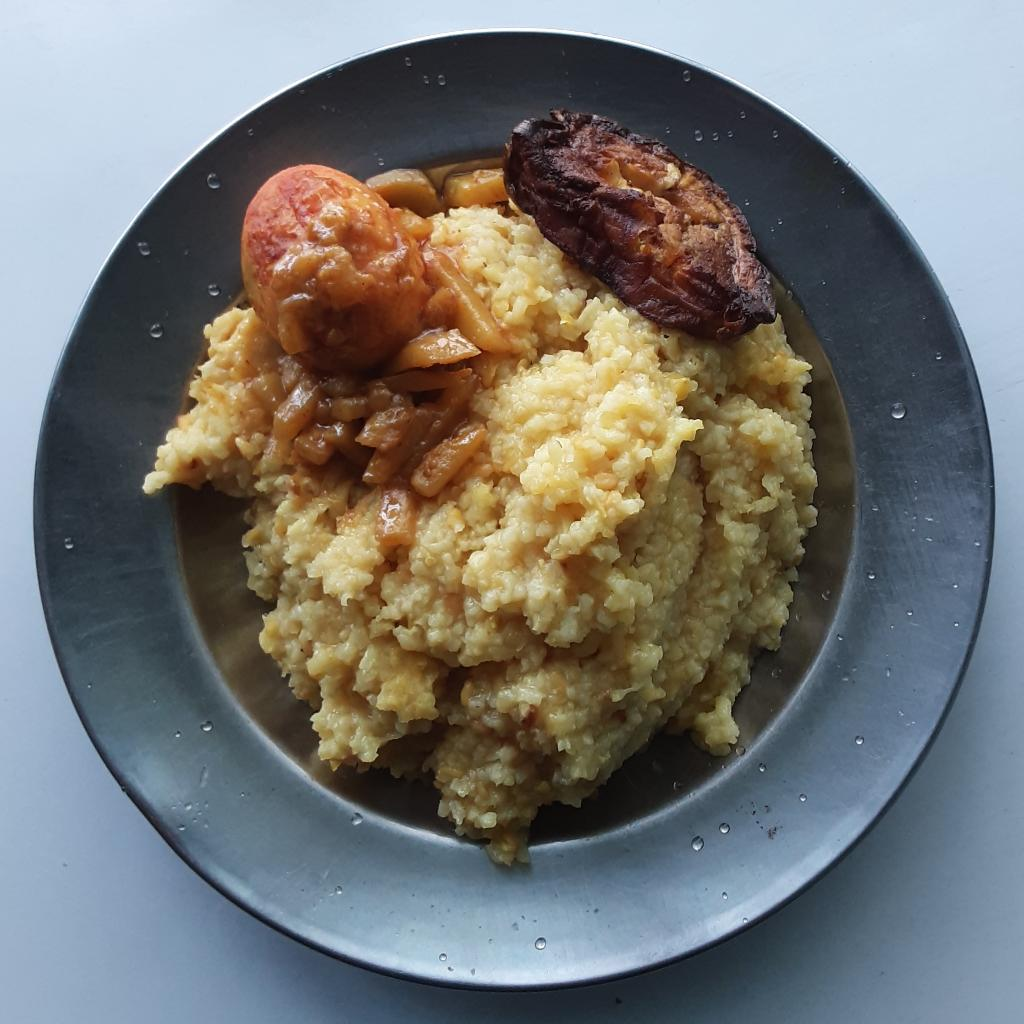begun-vaji: (501, 107, 781, 337)
egg-boiled: (240, 156, 428, 372)
khichuri: (136, 196, 824, 872)
potato: (252, 245, 500, 550), (367, 162, 499, 236)
